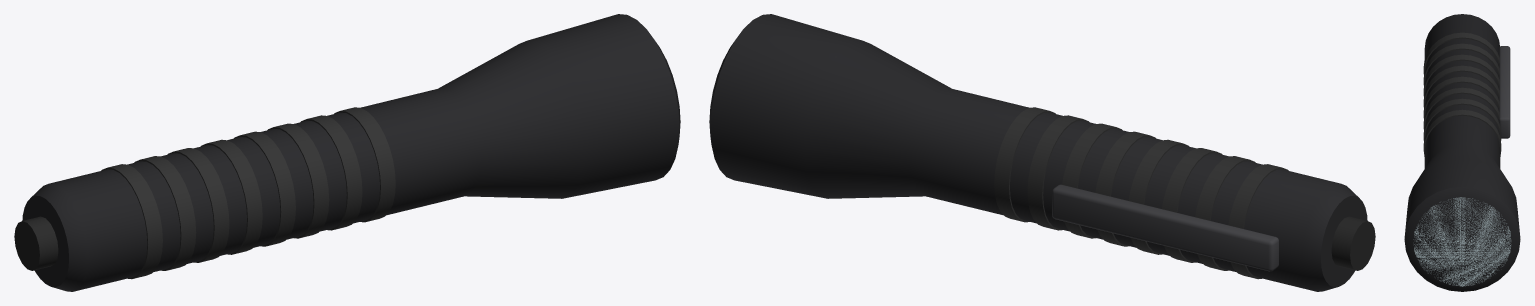
The model's file is SM_Flashlight.fbx.
The picture shows the model from 3 angles, left to right: view 1: azimuth 30°, elevation 25°; view 2: azimuth 150°, elevation 25°; view 3: azimuth 270°, elevation 25°; orthographic projection. The views are drawn at different scales.
Visible parts, largest first — view 1: SM_Flashlight; view 2: SM_Flashlight; view 3: SM_Flashlight.
Part boxes in pixels (<box>): SM_Flashlight: <box>14,14,680,291</box>; SM_Flashlight: <box>709,14,1375,291</box>; SM_Flashlight: <box>1404,14,1520,291</box>.
Size of the model in its own units: 0.04 by 0.167 by 0.04.
